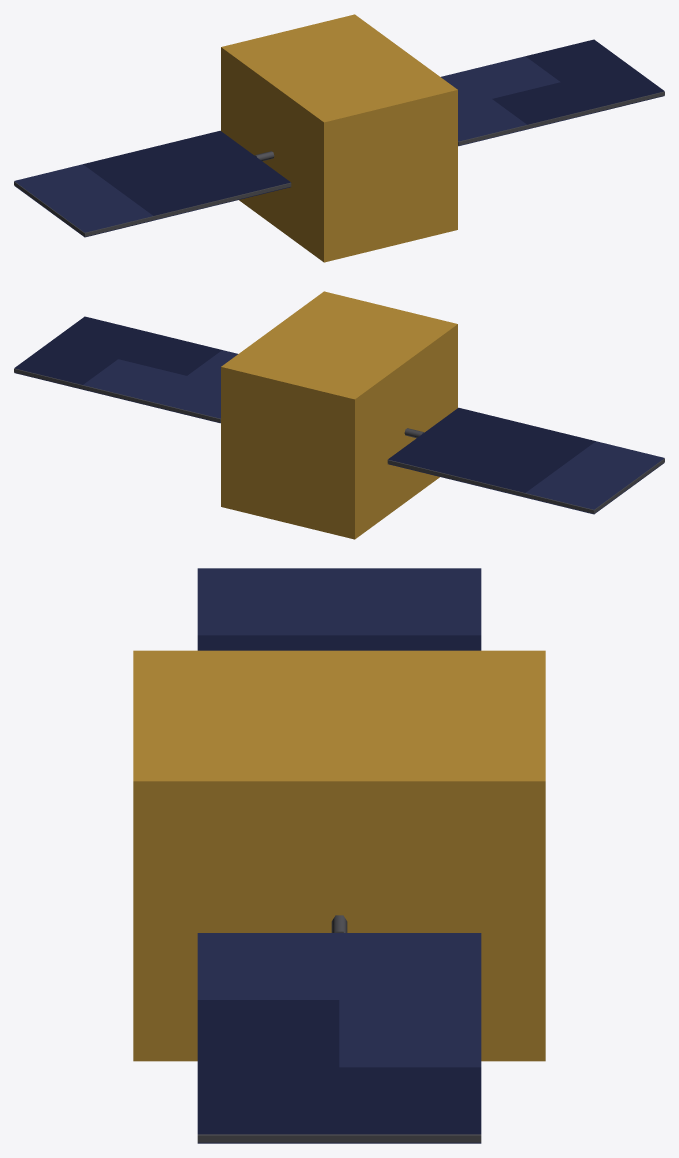
File: gen-box-m.obj
3 renders of one model, top to bottom at view 1: azimuth 30°, elevation 25°; view 2: azimuth 150°, elevation 25°; view 3: azimuth 270°, elevation 25°, orthographic. The views are drawn at different scales.
Visible parts, largest first — view 1: gen-box-m; view 2: gen-box-m; view 3: gen-box-m.
Boxes of the visible parts, x1,y1,x2,y2 form: gen-box-m: [14, 14, 664, 262]; gen-box-m: [14, 291, 664, 539]; gen-box-m: [133, 568, 545, 1143].
Size of the model in its own units: 5.2 by 1.2 by 1.6.
